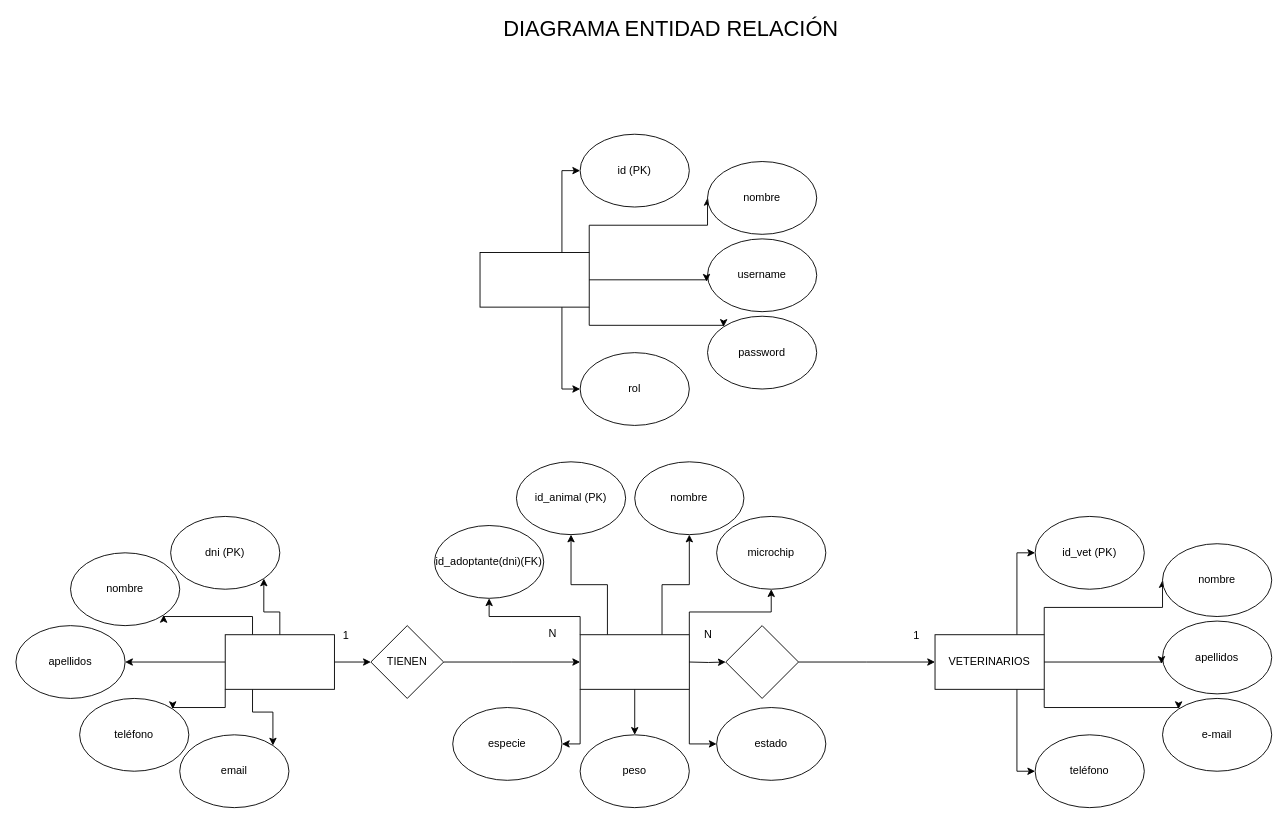
This 1288x824 diagram has some shape labels left out. The shapes that lost their labels are listed below. From the top down, each one's box as (x1, y1, x2, y2) in pixels, then its label:
(479, 252, 589, 307): USUARIOS
(224, 634, 334, 689): ADOPTANTES
(579, 634, 689, 689): ANIMALES
(725, 625, 799, 698): VALIDAN
